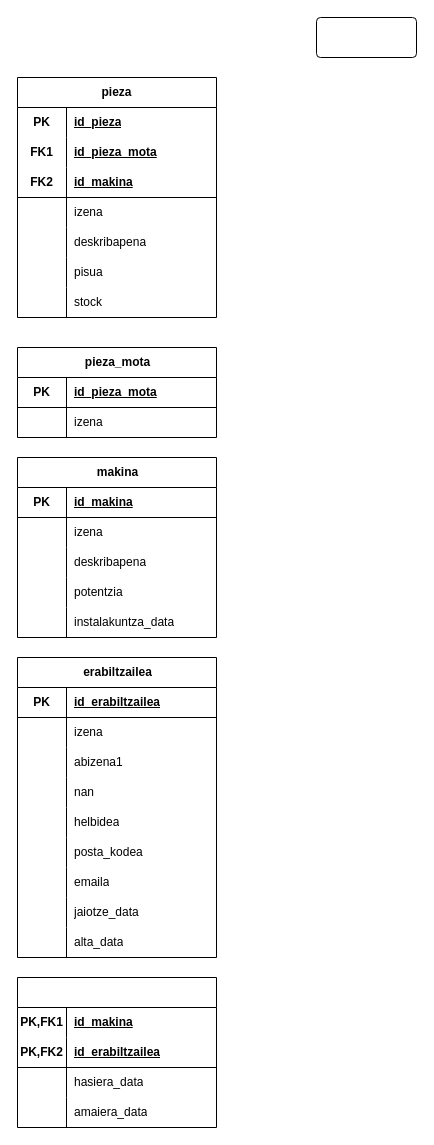
Some shapes in this 434 by 1145 pixel diagram are drawn without their labels. The shapes that lost their labels are listed below. From the top down, each one's box as (x1, y1, x2, y2) in pixels, then its label:
(316, 16, 416, 58): maltunadb
(16, 976, 216, 1128): makina_erabiltzailea
